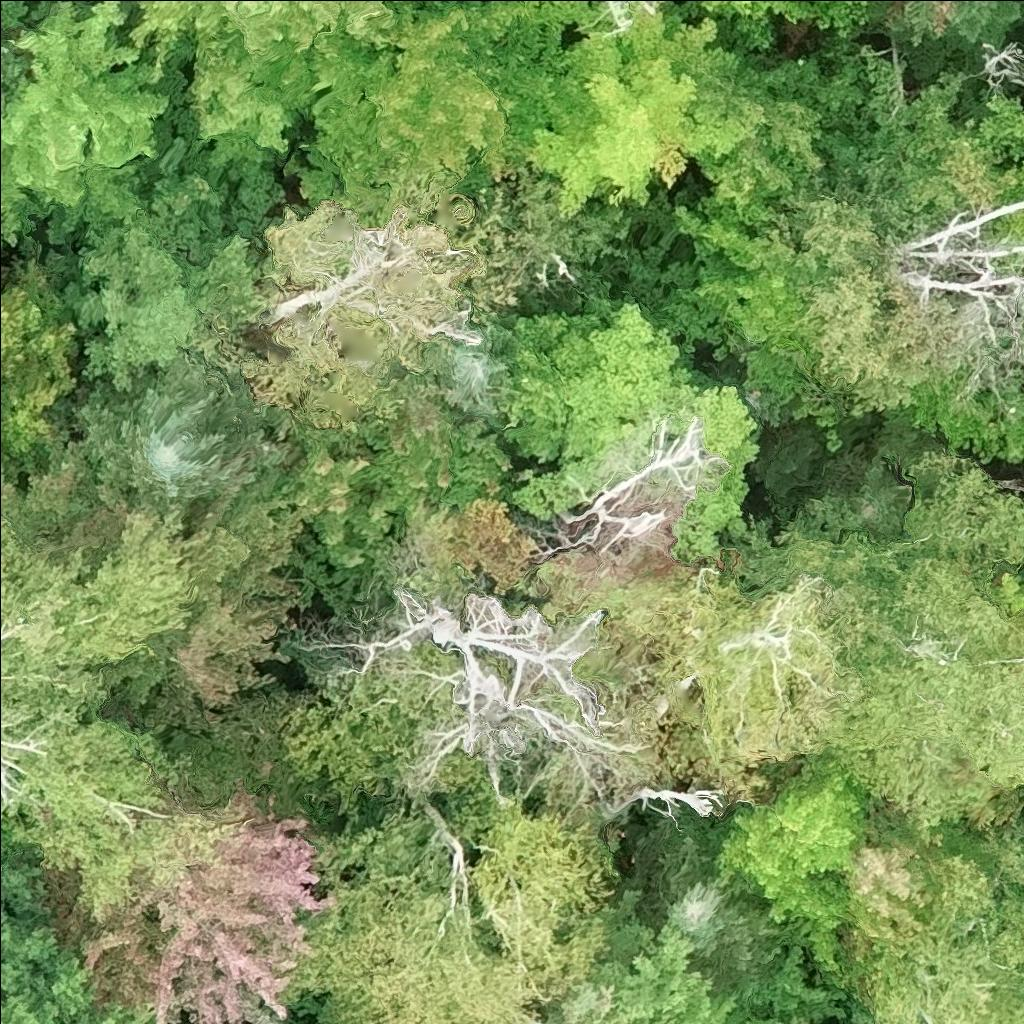crown: (742, 448, 1023, 845), (0, 460, 223, 918), (45, 759, 340, 1023), (493, 294, 768, 566), (151, 448, 375, 722), (282, 798, 549, 1023), (298, 0, 559, 226), (526, 0, 769, 218), (44, 158, 266, 392), (646, 559, 880, 773), (630, 188, 834, 423), (288, 375, 514, 586), (0, 0, 174, 232), (712, 749, 879, 988), (776, 163, 932, 411), (72, 346, 284, 512), (127, 0, 417, 118), (820, 54, 1020, 216), (471, 797, 622, 1002), (625, 815, 794, 995), (694, 52, 867, 223), (0, 849, 157, 1023), (868, 850, 1023, 1023), (591, 886, 745, 1023), (843, 823, 978, 964), (187, 34, 295, 191), (0, 258, 82, 459), (670, 0, 886, 60), (869, 0, 1023, 77), (431, 314, 521, 432), (973, 819, 1023, 975), (846, 461, 915, 545), (978, 91, 1023, 202), (540, 977, 648, 1023), (966, 35, 1023, 99), (0, 27, 30, 115), (605, 0, 656, 35), (990, 572, 1023, 615), (752, 1020, 762, 1023), (294, 1022, 308, 1023), (1022, 67, 1023, 70)
